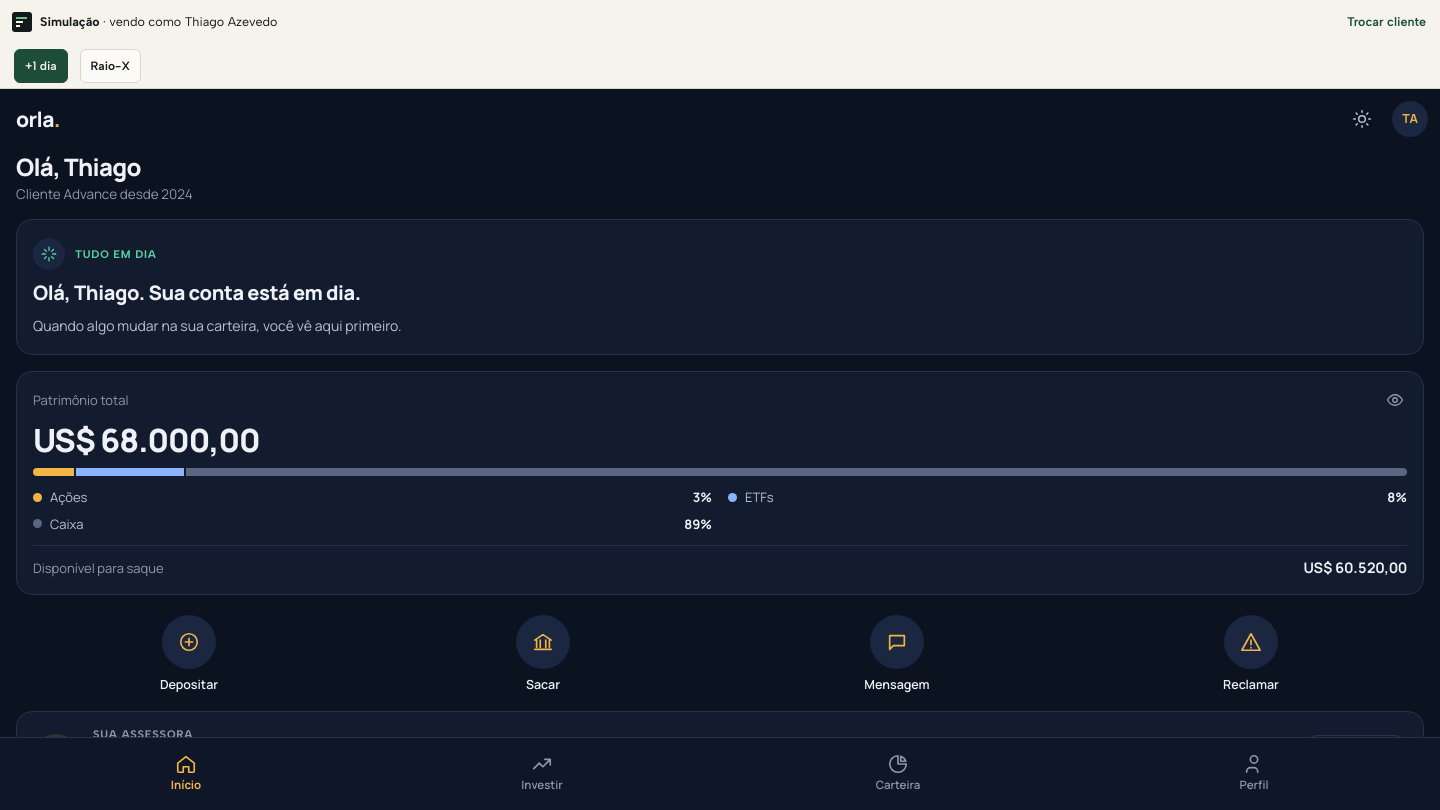
client app home from the screen route › fetches the screen again when a panel returns to Início
Click the button "Depositar": click(189, 653) [16, 611, 362, 695]
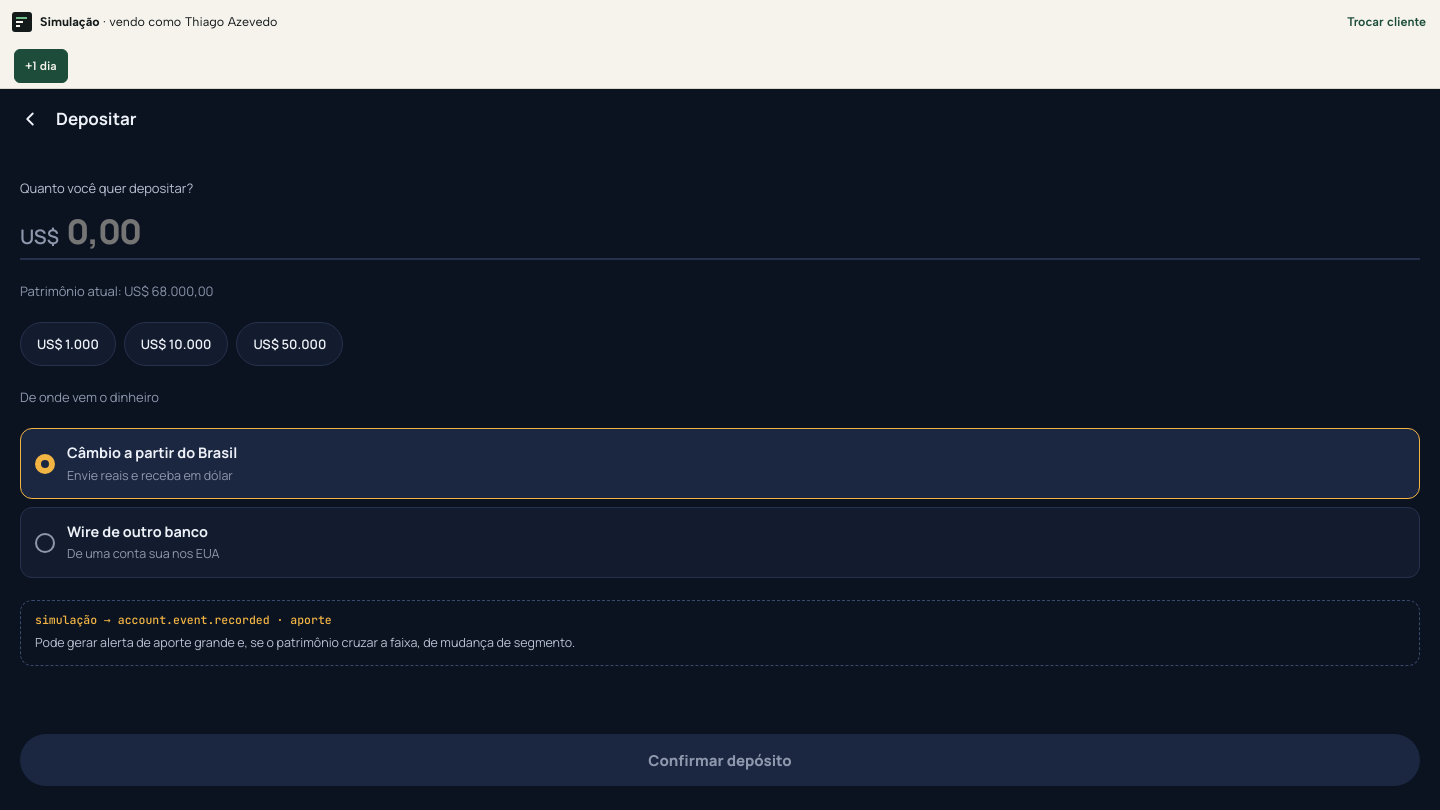
Click the button named "Voltar": click(30, 119) [8, 97, 52, 141]
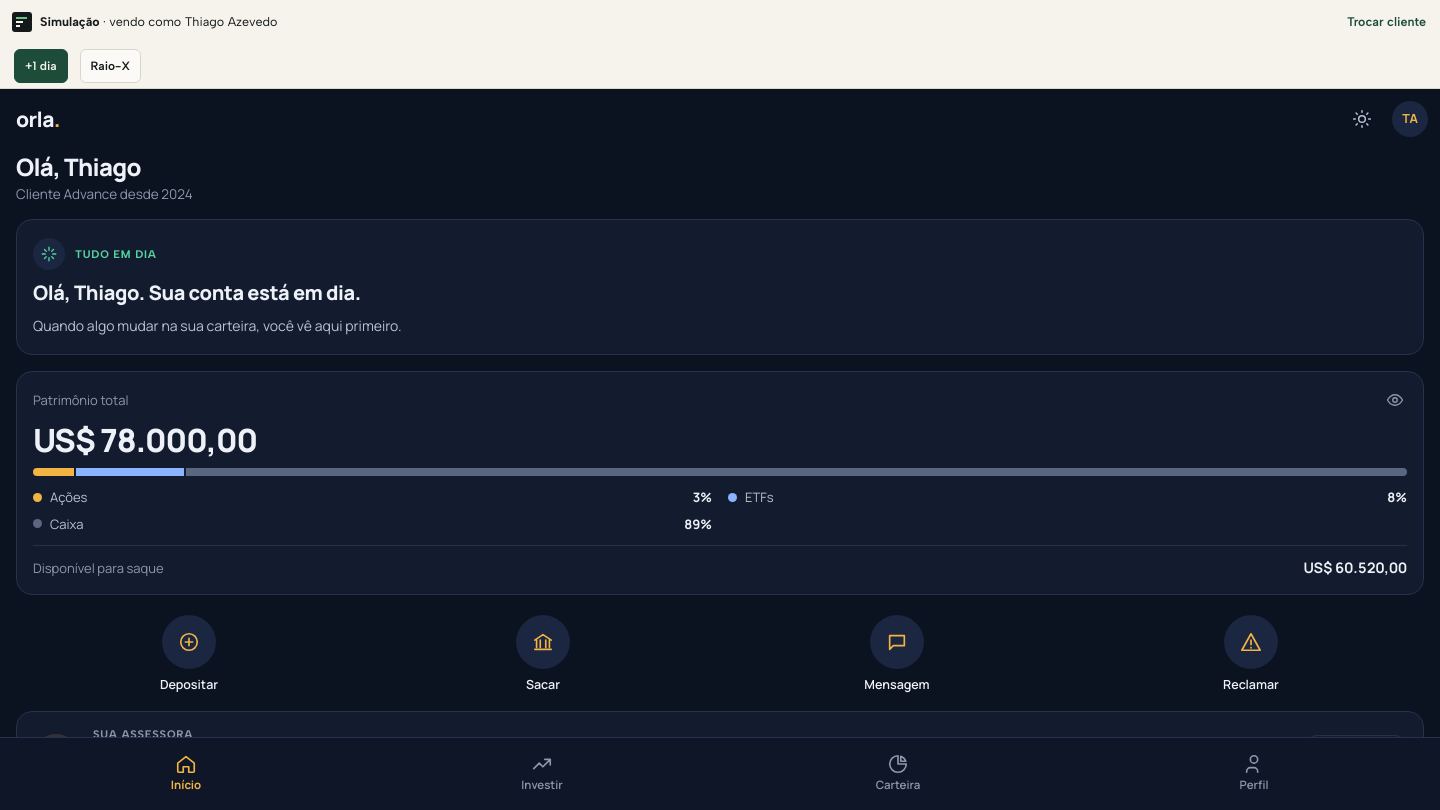
Expected: the text "US$ 78.000,00" is shown, [33, 418, 257, 462]
Expected: the text "US$ 68.000,00" is gone
